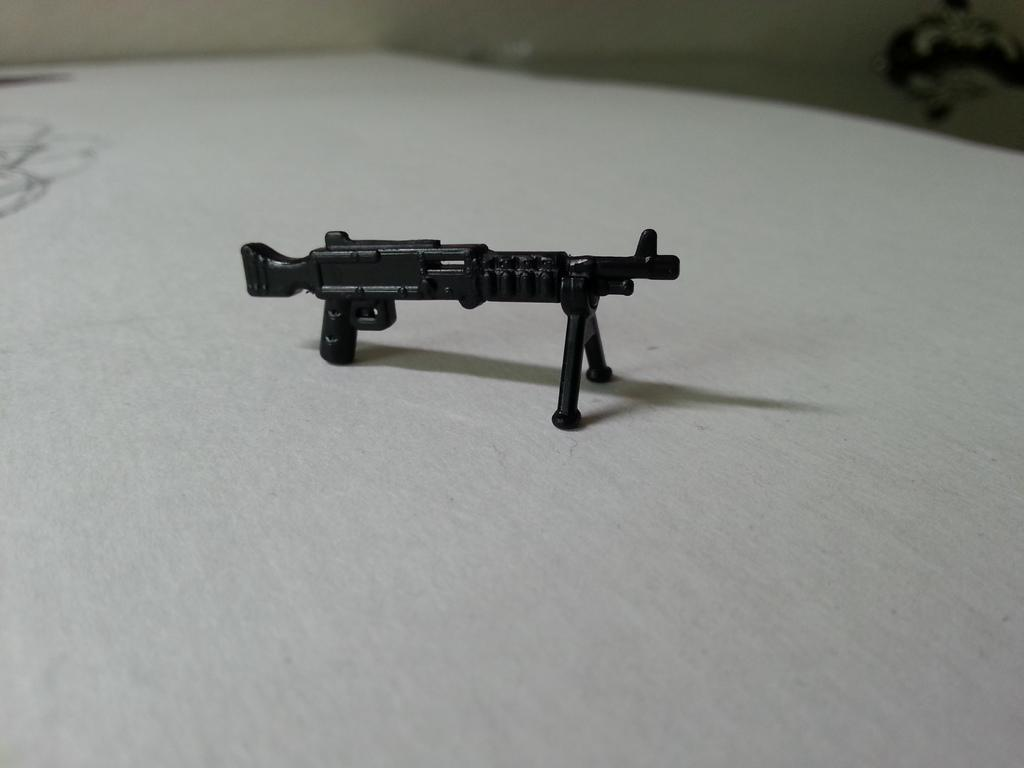Rifle: (229, 209, 714, 398)
